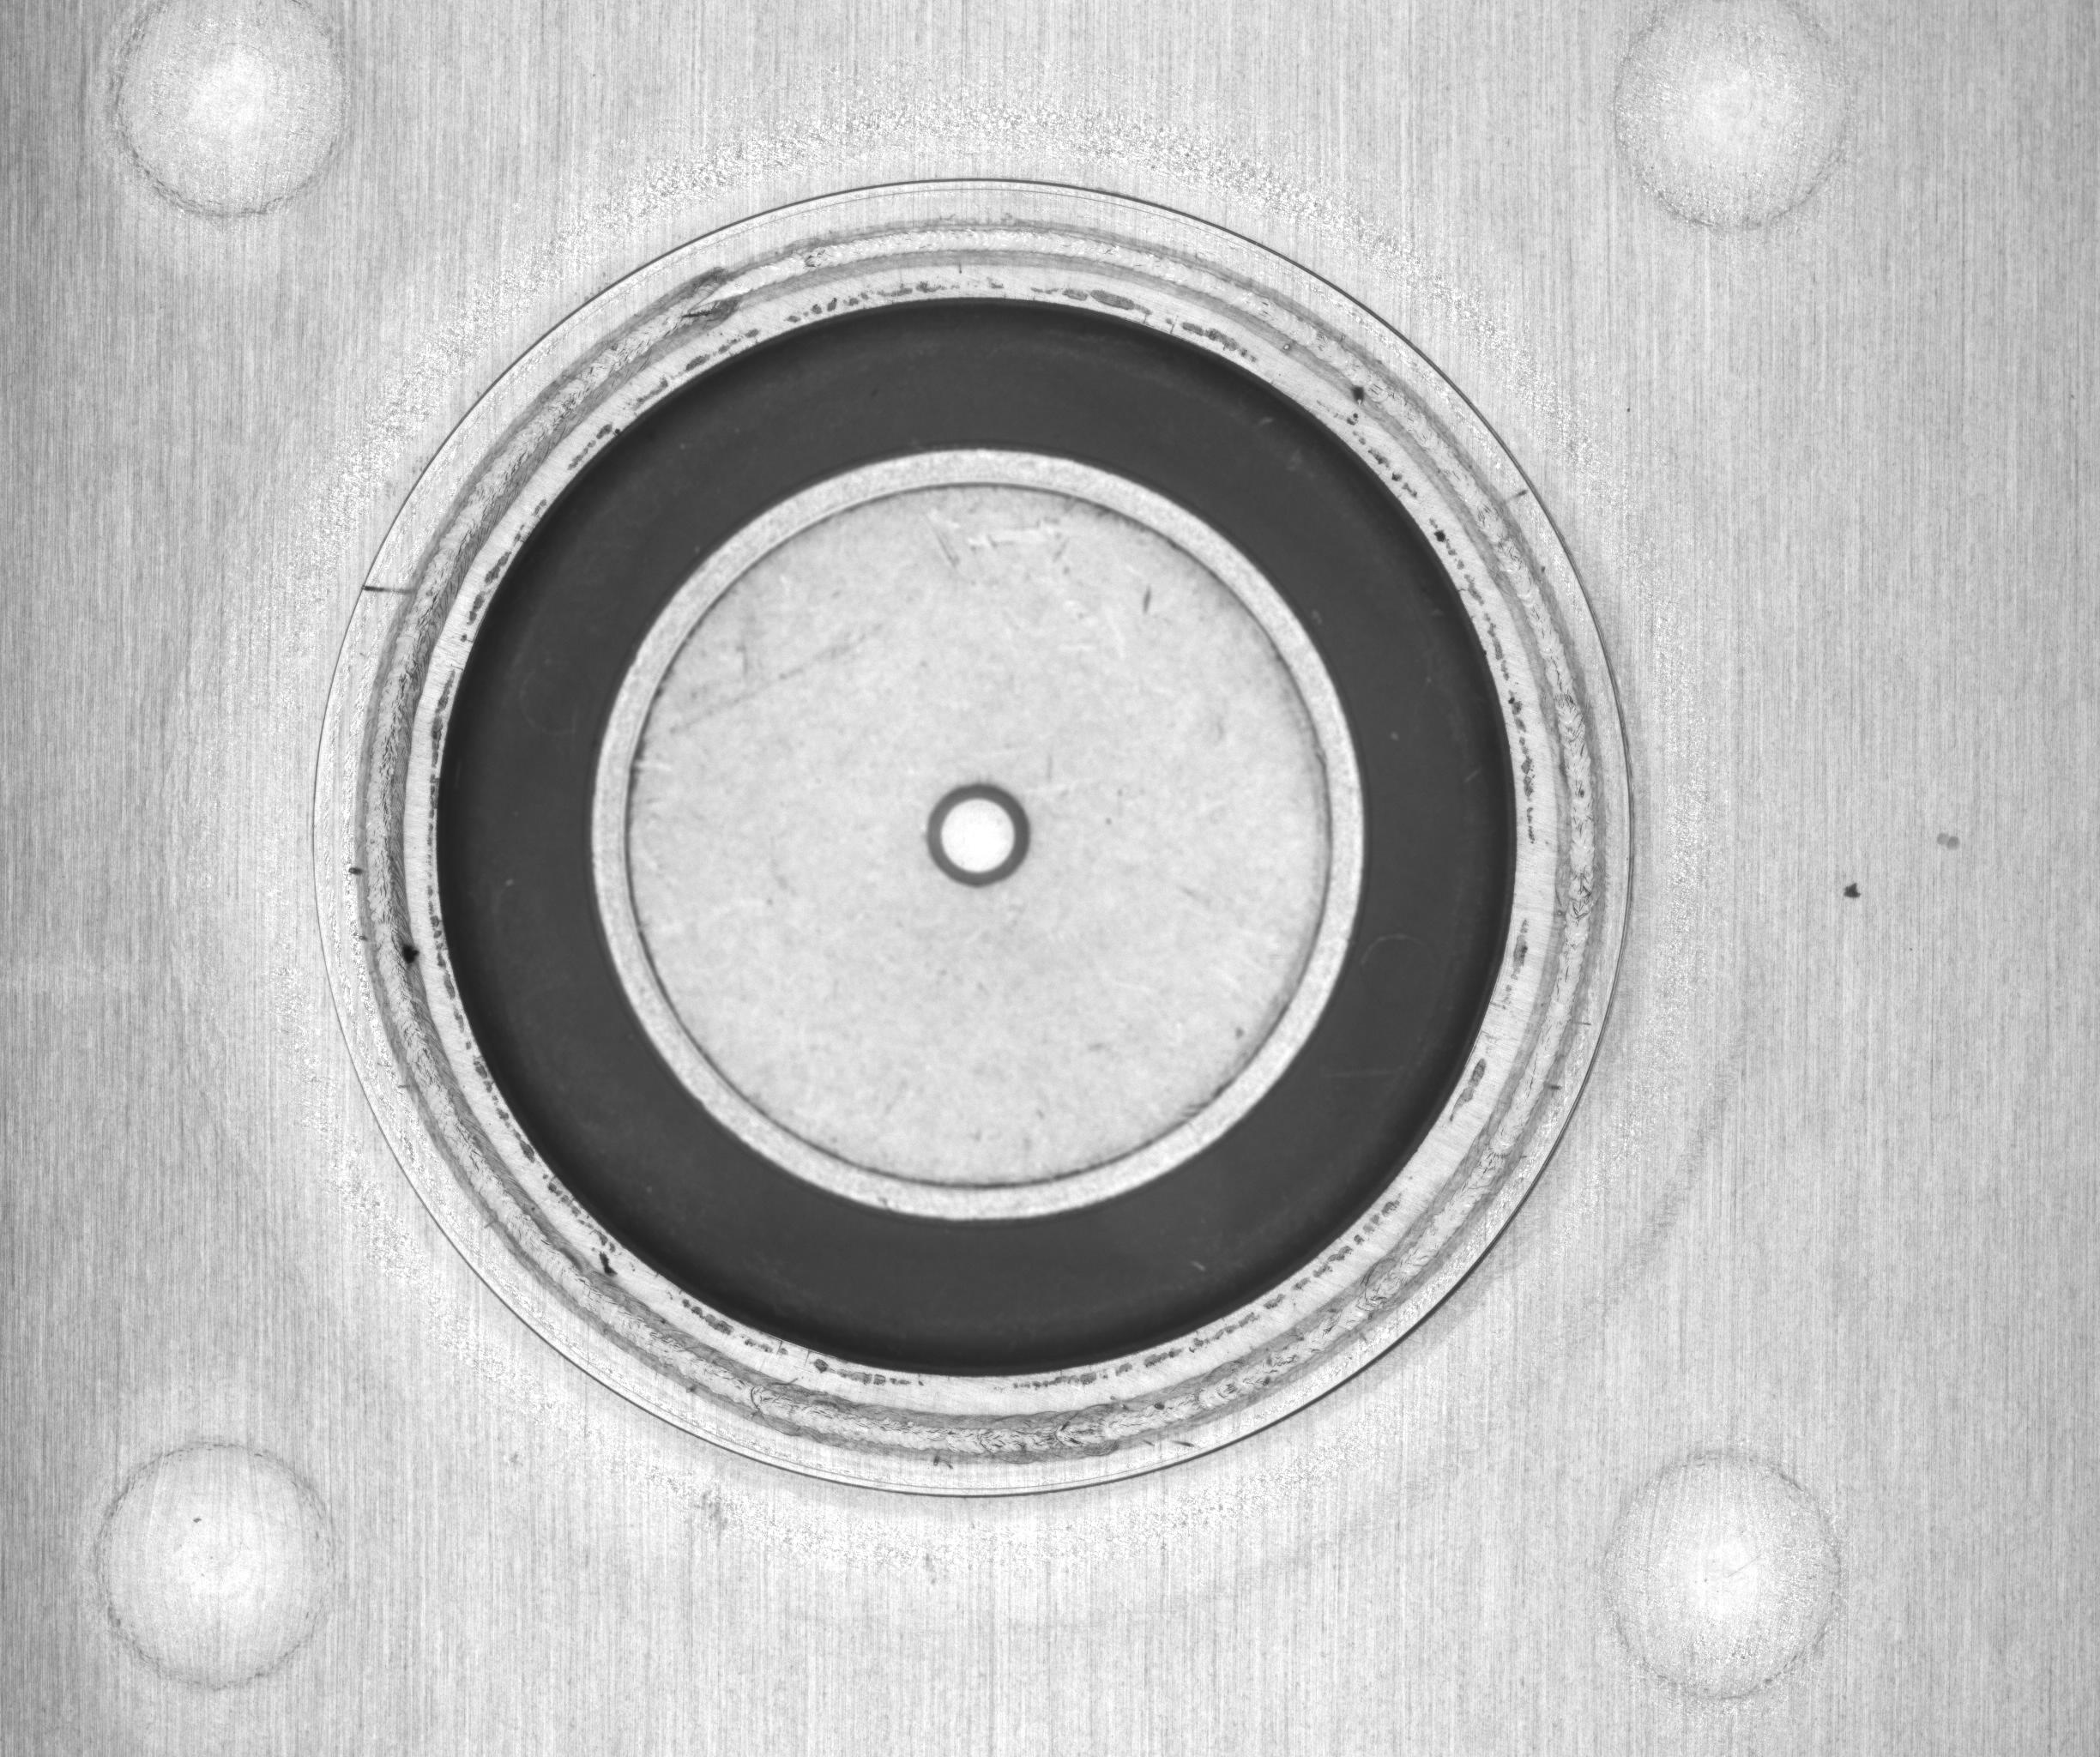normal: (303, 145, 1688, 1504)
